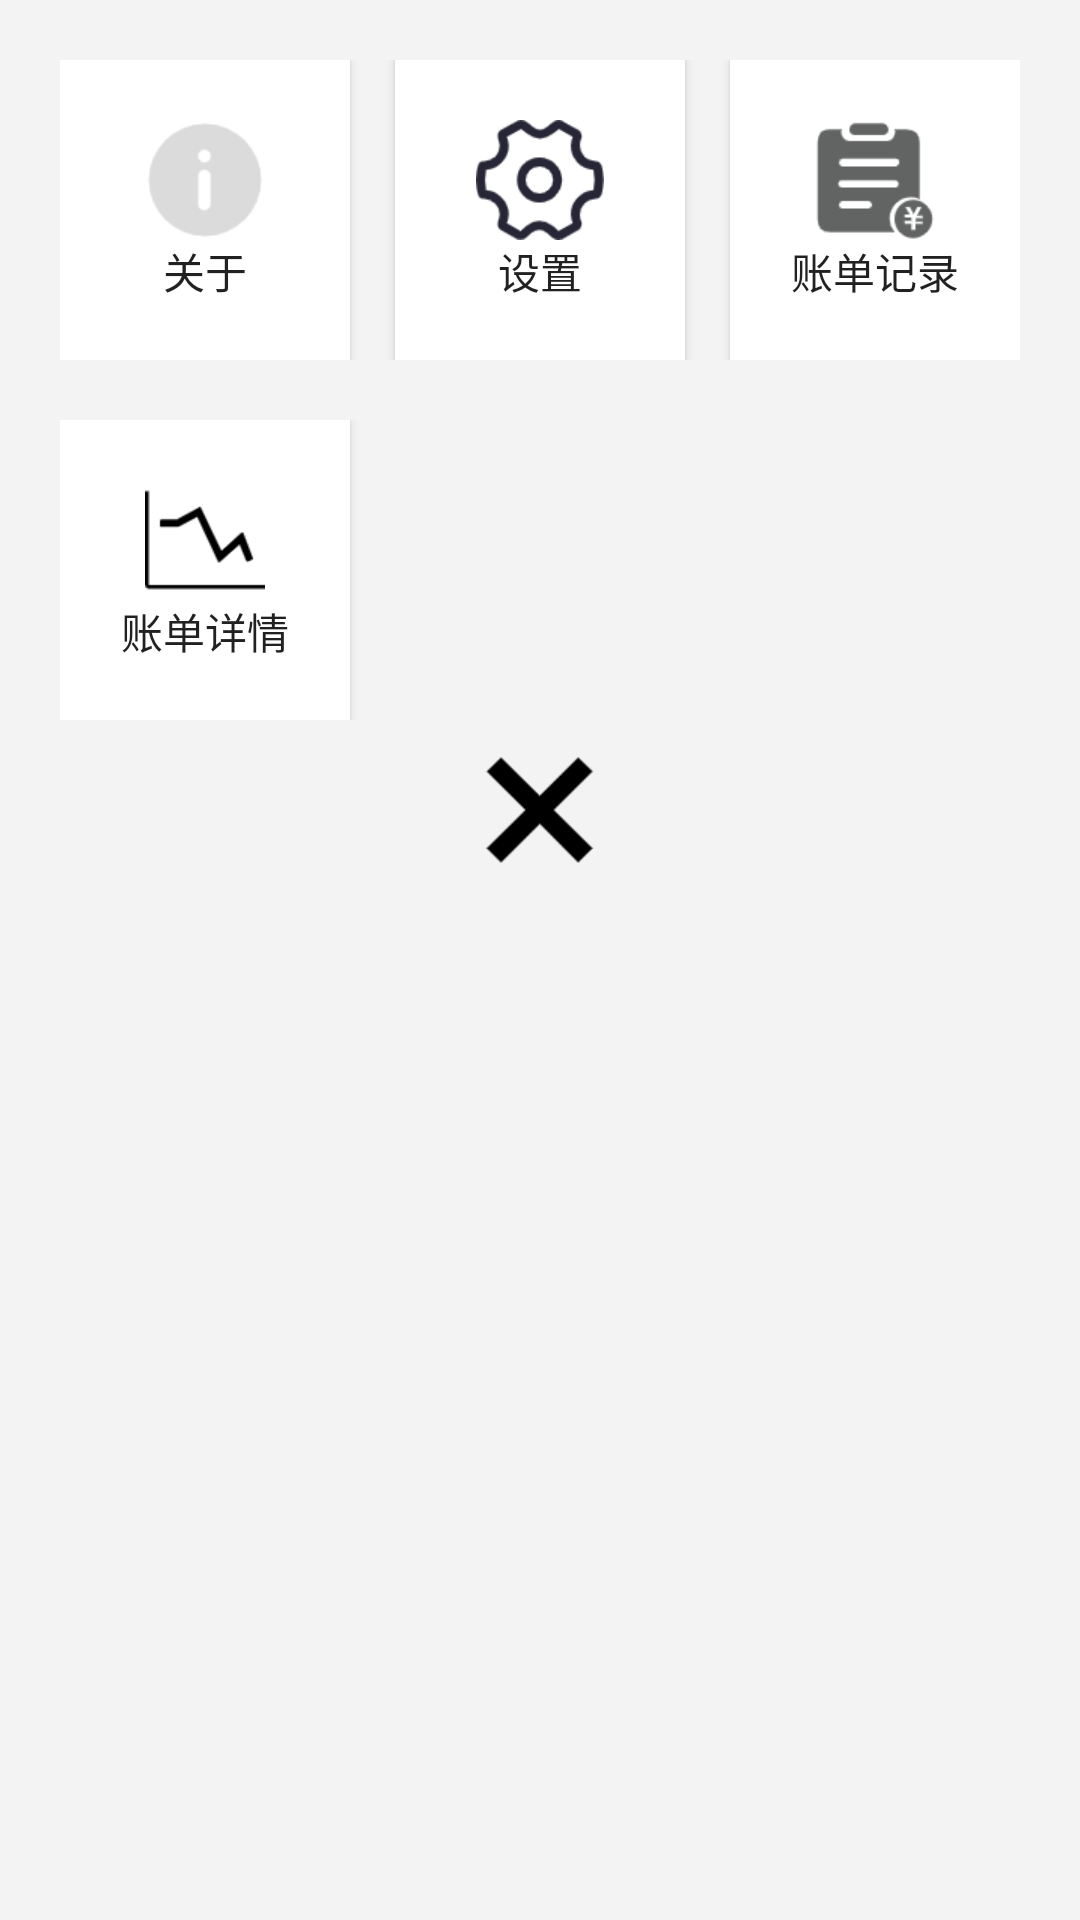

Named icons in this screenshot (1080px x 1920px) and their centers, (x=x, y=y):
error: (x=539, y=810)
